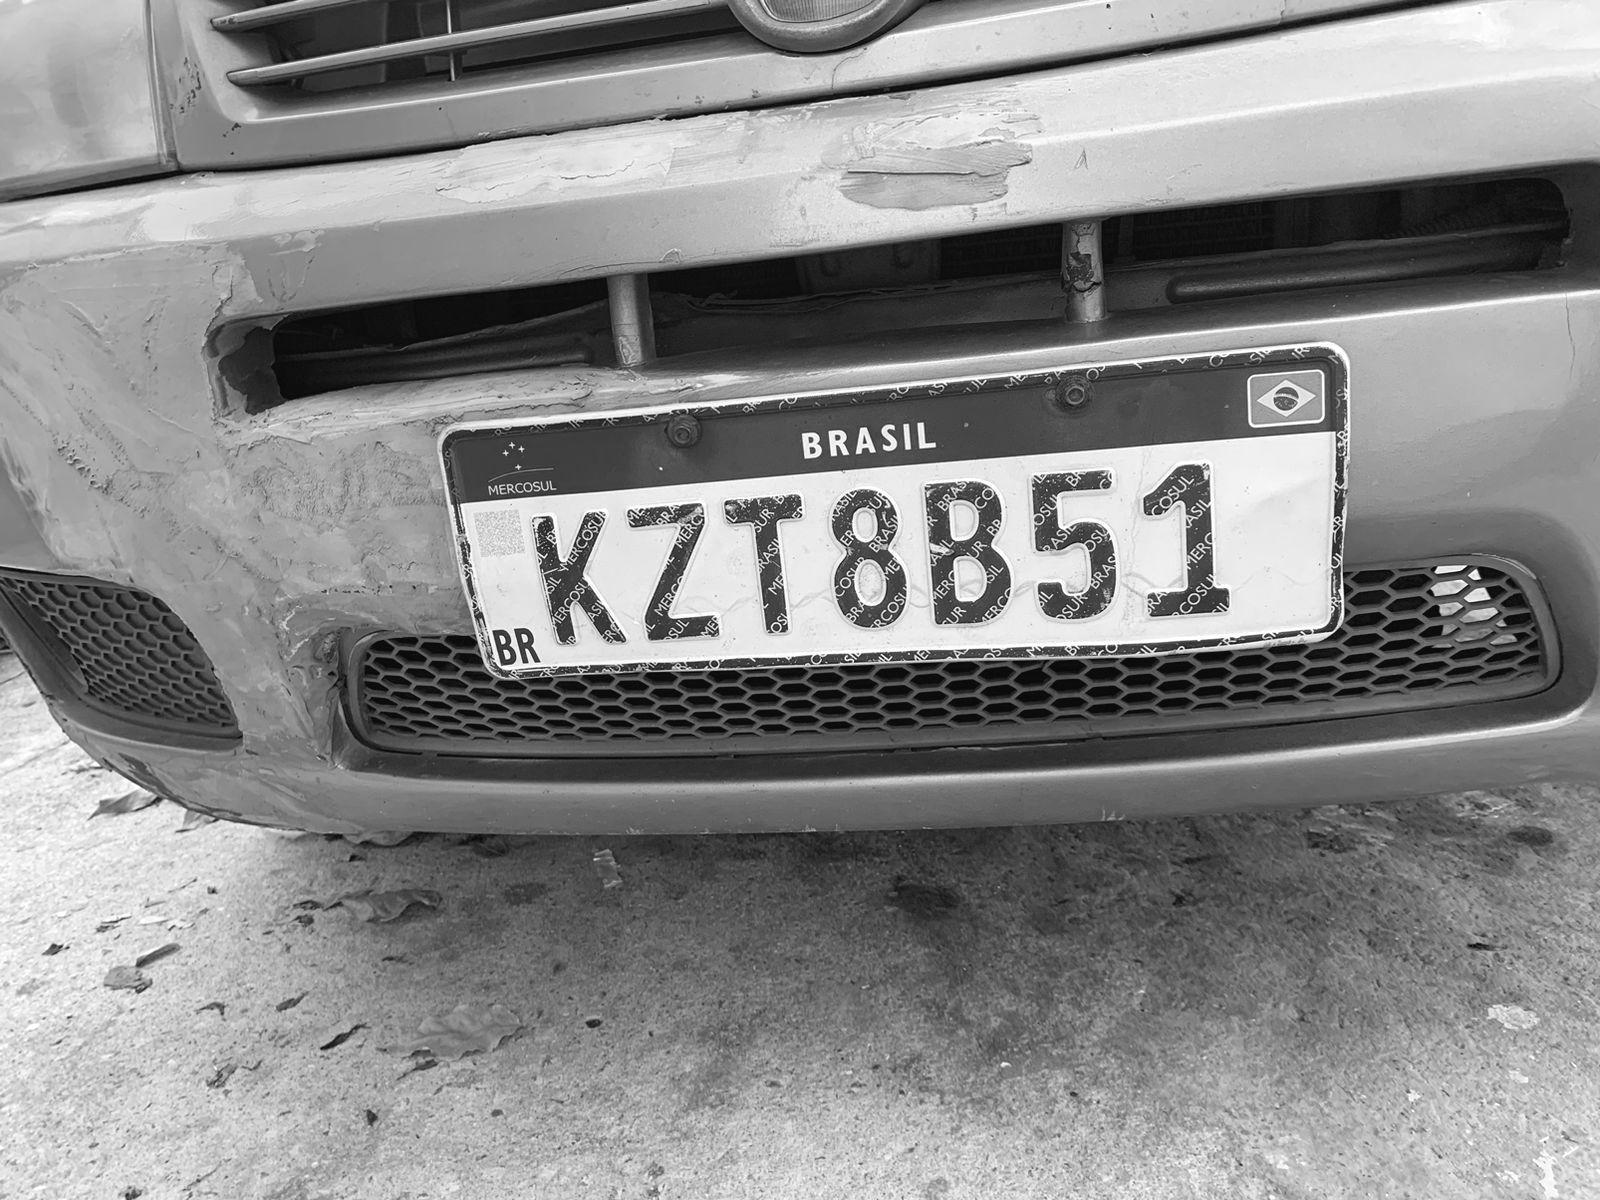placa_mercosul: (441, 342, 1347, 678)
